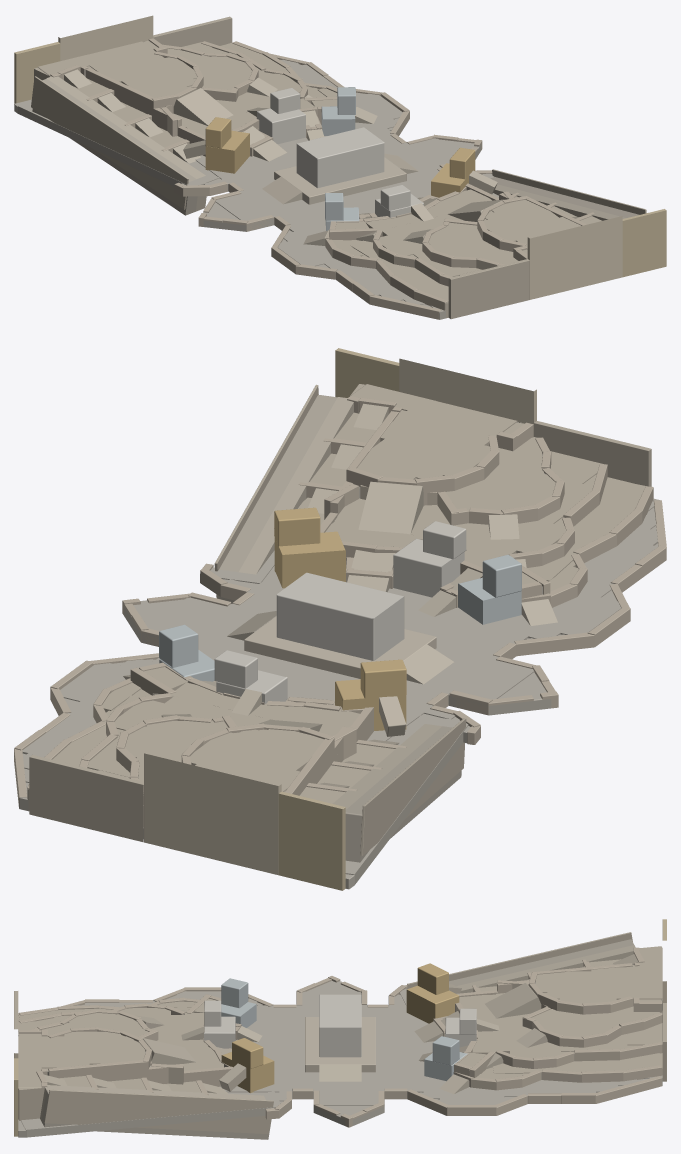
Rendered from terraces_turf_level.glb.
3 views of the same model, one above another, from view 1: azimuth 30°, elevation 25°; view 2: azimuth 150°, elevation 25°; view 3: azimuth 270°, elevation 25° (orthographic). The views are drawn at different scales.
Parts seen in each view (by area): view 1: PaintableStage; view 2: PaintableStage; view 3: PaintableStage.
Boxes of the visible parts, x1,y1,x2,y2 form: PaintableStage: (14,15,666,319); PaintableStage: (14,348,666,890); PaintableStage: (14,919,666,1139).
Size of the model in its own units: 54.36 by 13.53 by 92.
